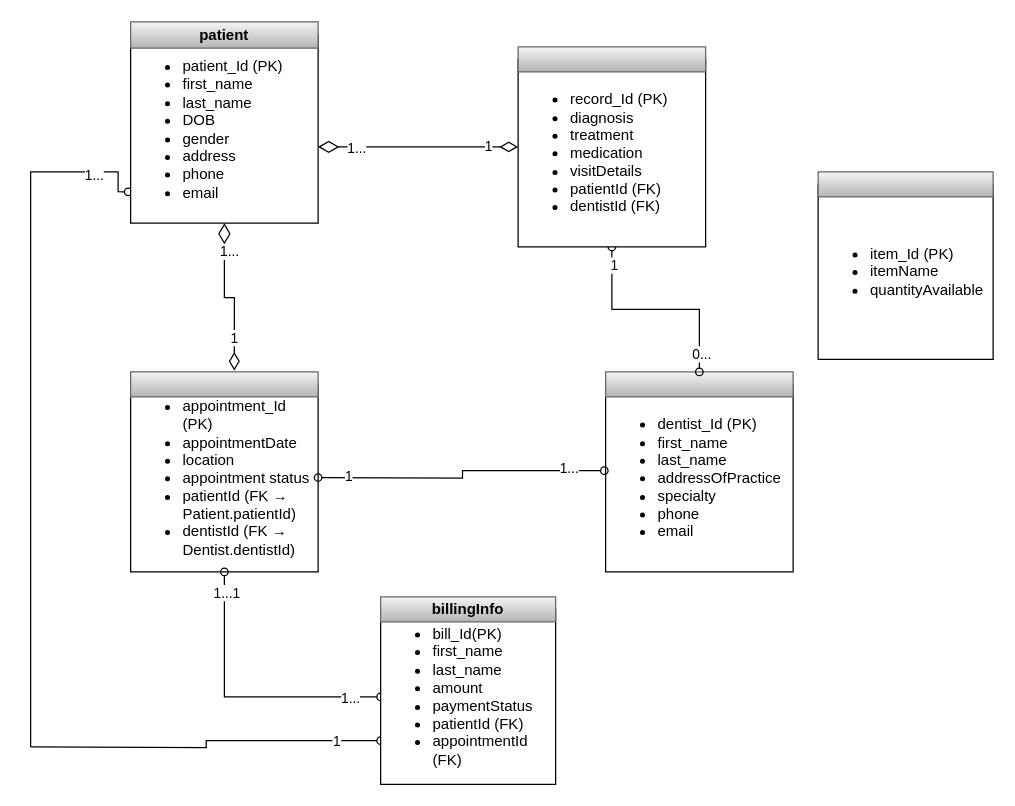
The diagram is 1015 pixels wide and 806 high, and some of its shapes have lost their labels. The shapes that lost their labels are listed below. From the top down, each one's centre as x and y in pixels, then its label:
At (611,59): "patientRecord".
At (905,184): "inventory".
At (223,384): "appointment".
At (698,384): "dentist".
